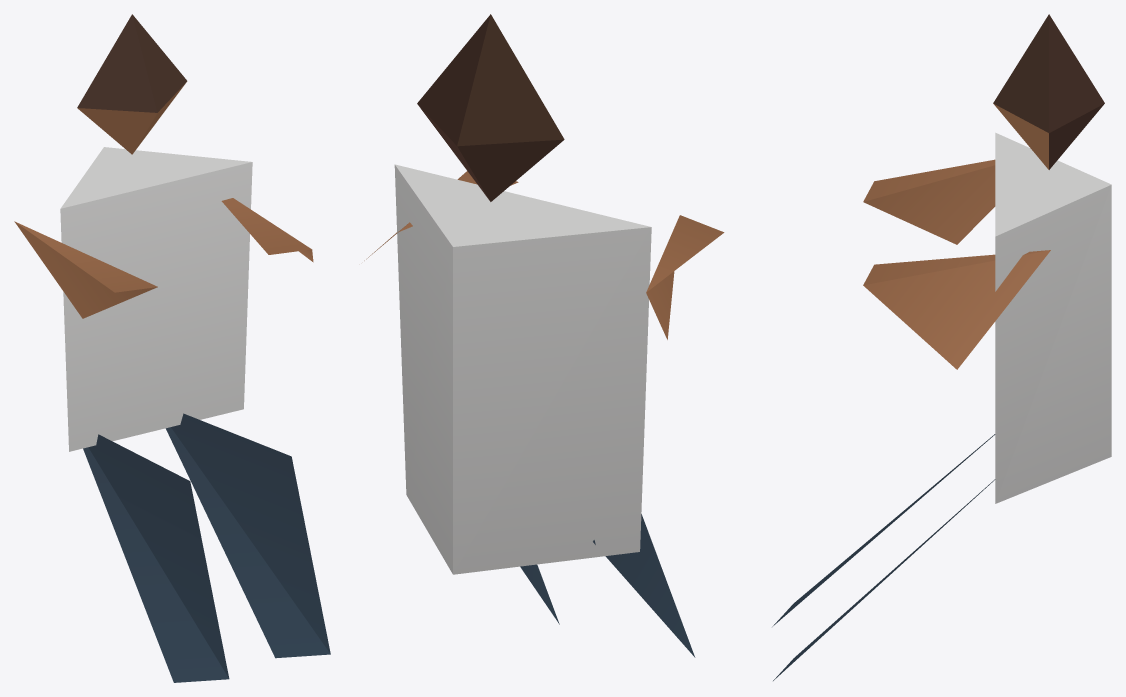
File: fan-06.glb
3 renders of one model, left to right at view 1: azimuth 30°, elevation 25°; view 2: azimuth 150°, elevation 25°; view 3: azimuth 270°, elevation 25°, orthographic. The views are drawn at different scales.
Visible parts, largest first — view 1: fan-06; view 2: fan-06; view 3: fan-06.
Boxes of the visible parts, box(x1,y1,x2,y2) form: fan-06: box(14, 14, 330, 682); fan-06: box(364, 14, 724, 657); fan-06: box(772, 14, 1111, 680).
Bounding box in the file's own units: 0.735 × 1.55 × 0.76.
